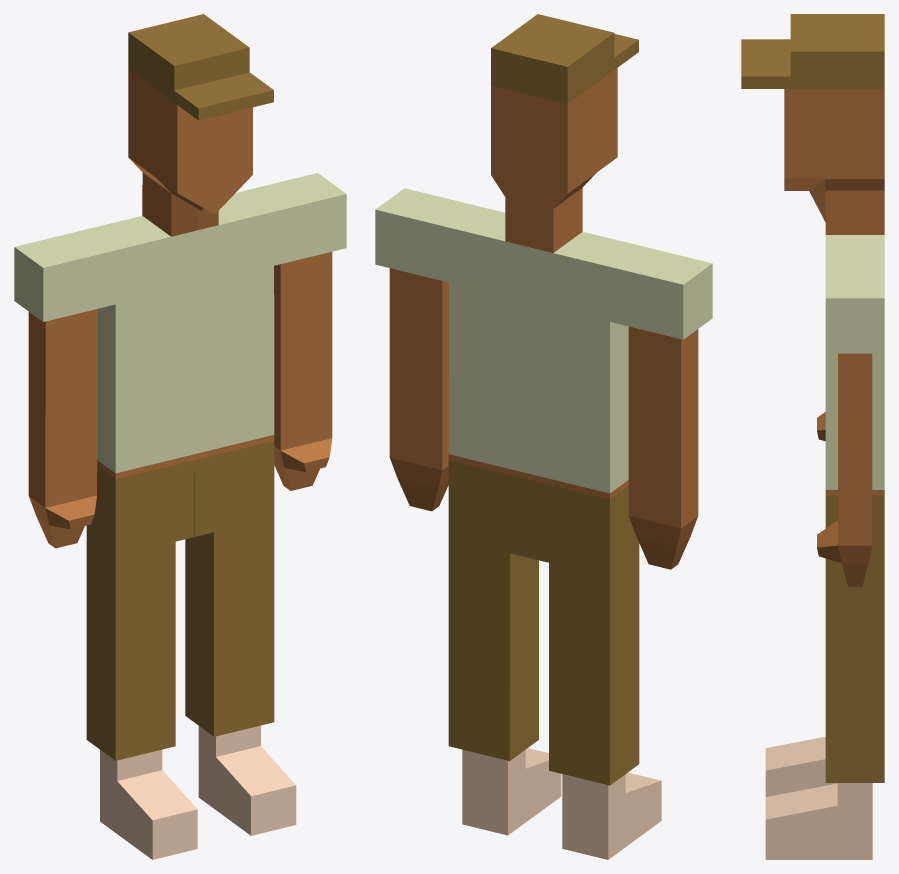
The model's file is Human_male.fbx.
The picture shows the model from 3 angles, left to right: view 1: azimuth 30°, elevation 25°; view 2: azimuth 150°, elevation 25°; view 3: azimuth 270°, elevation 25°; orthographic projection.
Parts seen in each view (by area): view 1: Cube; view 2: Cube; view 3: Cube.
Part boxes in pixels (x1,y1,x2,y2): Cube: (14, 14, 346, 859); Cube: (375, 14, 712, 859); Cube: (741, 14, 884, 859).
Bounding box in the file's own units: 804 × 1968 × 323.
